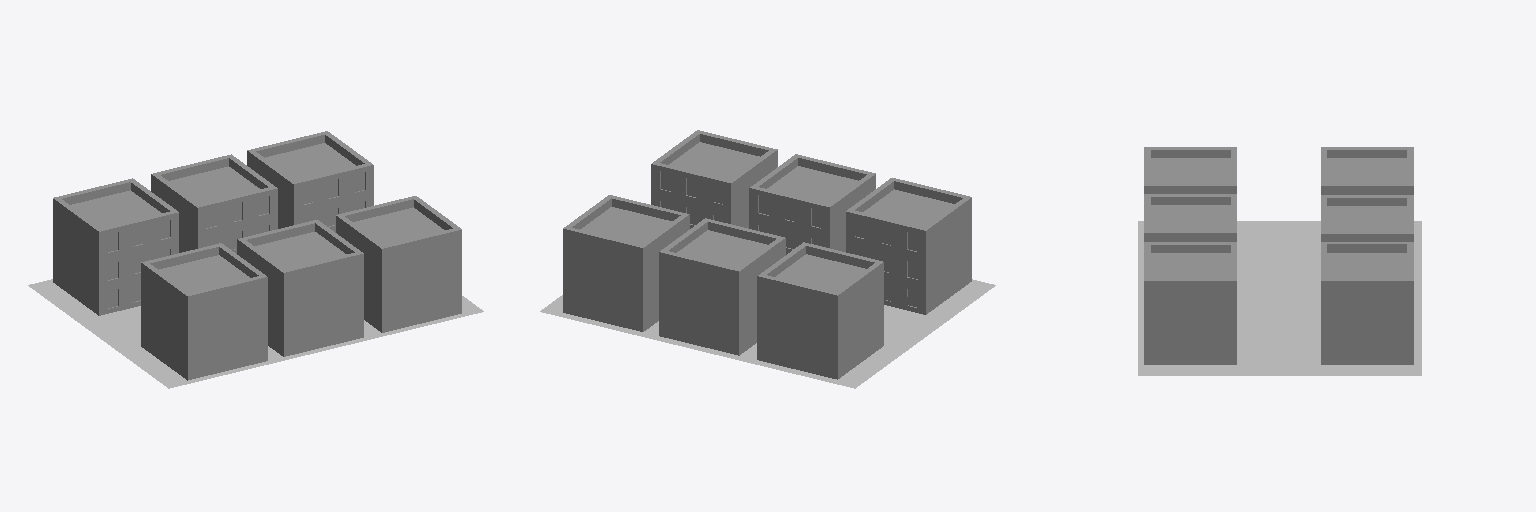
Rendered from Build.obj.
3 views of the same model, side by side, from view 1: azimuth 30°, elevation 25°; view 2: azimuth 150°, elevation 25°; view 3: azimuth 270°, elevation 25° (orthographic).
Visible parts, largest first — view 1: Buil.000_Cube.006, Buil.004_Cube.009, Buil.003_Cube.008, Buil.001_Cube.007, Buil.005_Cube.010, Buil.006_Cube.011, Plane; view 2: Buil.004_Cube.009, Buil.000_Cube.006, Buil.005_Cube.010, Buil.006_Cube.011, Buil.003_Cube.008, Buil.001_Cube.007, Plane; view 3: Plane, Buil.006_Cube.011, Buil.003_Cube.008, Buil.004_Cube.009, Buil.001_Cube.007, Buil.005_Cube.010, Buil.000_Cube.006.
Part boxes in pixels (left/top/right/bottom): Buil.000_Cube.006: left=141, top=243, right=267, bottom=380; Buil.004_Cube.009: left=53, top=178, right=178, bottom=315; Buil.003_Cube.008: left=336, top=196, right=461, bottom=332; Buil.001_Cube.007: left=237, top=220, right=363, bottom=356; Buil.005_Cube.010: left=151, top=154, right=277, bottom=253; Buil.006_Cube.011: left=247, top=131, right=373, bottom=232; Plane: left=28, top=279, right=483, bottom=388; Buil.004_Cube.009: left=757, top=242, right=883, bottom=379; Buil.000_Cube.006: left=846, top=178, right=971, bottom=314; Buil.005_Cube.010: left=659, top=218, right=785, bottom=355; Buil.006_Cube.011: left=563, top=195, right=689, bottom=331; Buil.003_Cube.008: left=651, top=130, right=777, bottom=228; Buil.001_Cube.007: left=749, top=154, right=875, bottom=254; Plane: left=540, top=279, right=995, bottom=388; Plane: left=1138, top=221, right=1421, bottom=375; Buil.006_Cube.011: left=1321, top=242, right=1413, bottom=364; Buil.003_Cube.008: left=1144, top=242, right=1236, bottom=364; Buil.004_Cube.009: left=1321, top=147, right=1413, bottom=194; Buil.001_Cube.007: left=1144, top=194, right=1236, bottom=241; Buil.005_Cube.010: left=1321, top=195, right=1413, bottom=241; Buil.000_Cube.006: left=1144, top=147, right=1236, bottom=193.
Size of the model in its own units: 19.27 by 4.96 by 14.96.